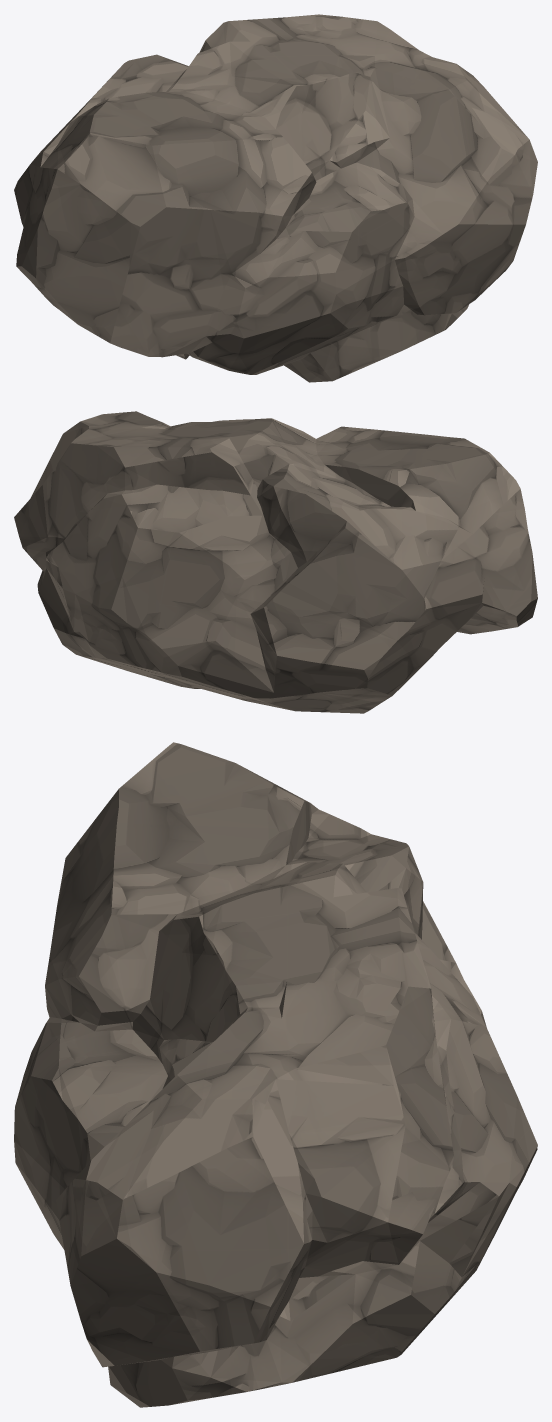
Rendered from synty-rock-pile-01.gltf.
3 renders of one model, top to bottom at view 1: azimuth 30°, elevation 25°; view 2: azimuth 150°, elevation 25°; view 3: azimuth 270°, elevation 25°, orthographic. The views are drawn at different scales.
Visible parts, largest first — view 1: SM_Rock_Pile_01; view 2: SM_Rock_Pile_01; view 3: SM_Rock_Pile_01.
Part boxes in pixels (left/top/right/bottom): SM_Rock_Pile_01: left=14, top=14, right=537, bottom=382; SM_Rock_Pile_01: left=14, top=411, right=537, bottom=713; SM_Rock_Pile_01: left=14, top=742, right=537, bottom=1407.
Bounding box in the file's own units: 6.62 × 3.89 × 4.02.
Materials: 1 (1 with a texture image).
